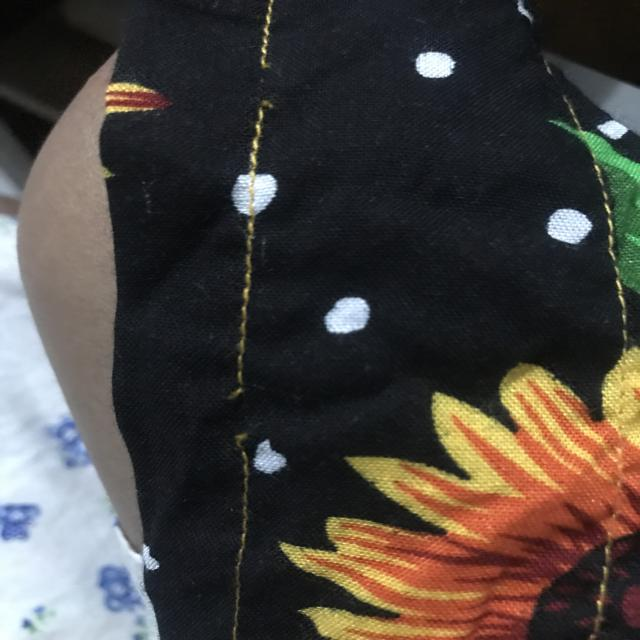broken: (210, 376, 276, 459), (236, 54, 296, 120)
good: (232, 252, 266, 326)
